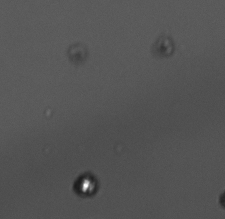Dead Cell: (66, 43, 89, 63), (154, 36, 174, 58)
Living Cell: (73, 172, 99, 198)
